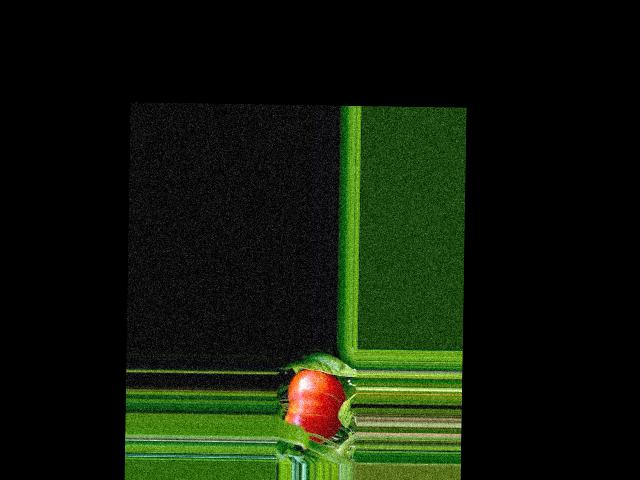tomato: (284, 368, 345, 444)
